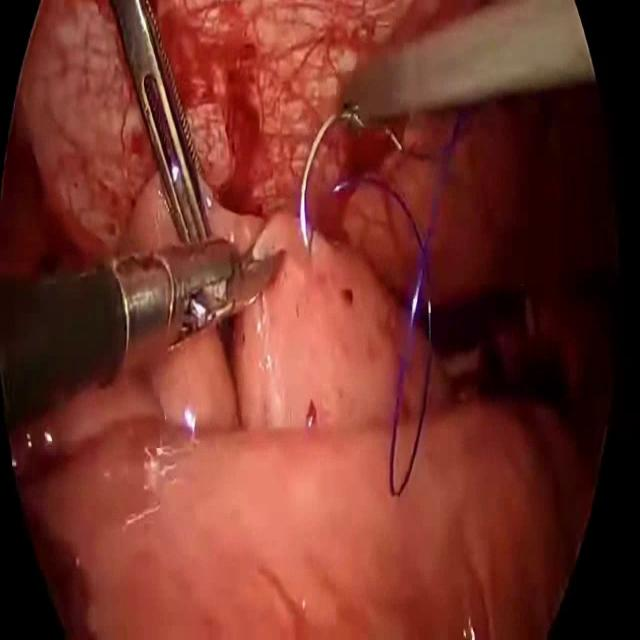surgical-area: (10, 0, 617, 637), (0, 0, 186, 275)
surgical-tool: (0, 0, 286, 432), (342, 0, 598, 121)
